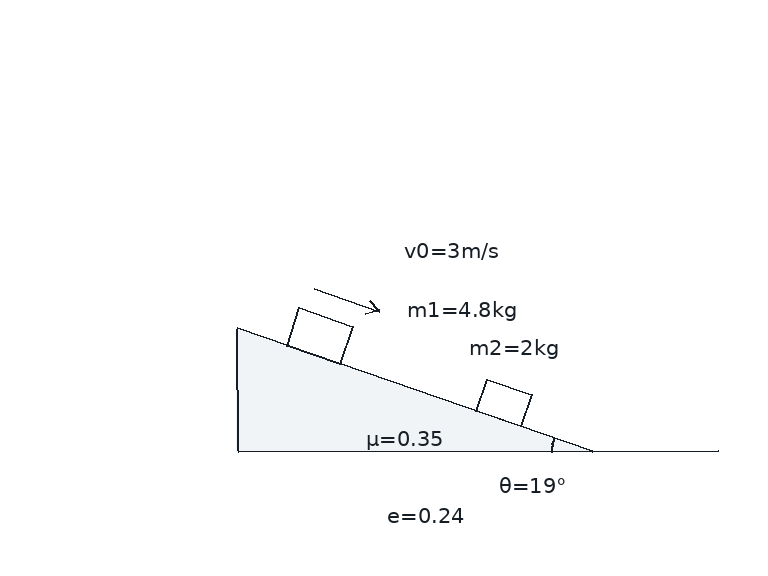block: (284, 305, 354, 366), (474, 377, 533, 428)
ramp: (234, 327, 594, 453)
